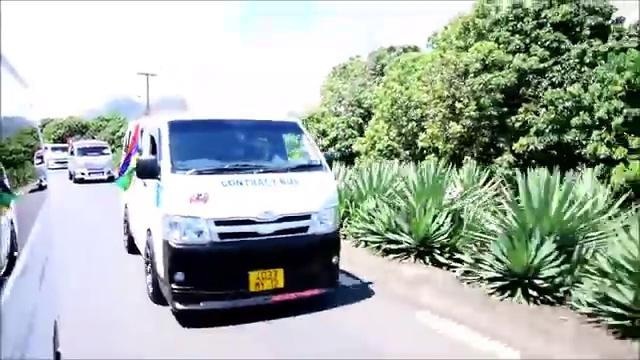van: (115, 114, 346, 325)
